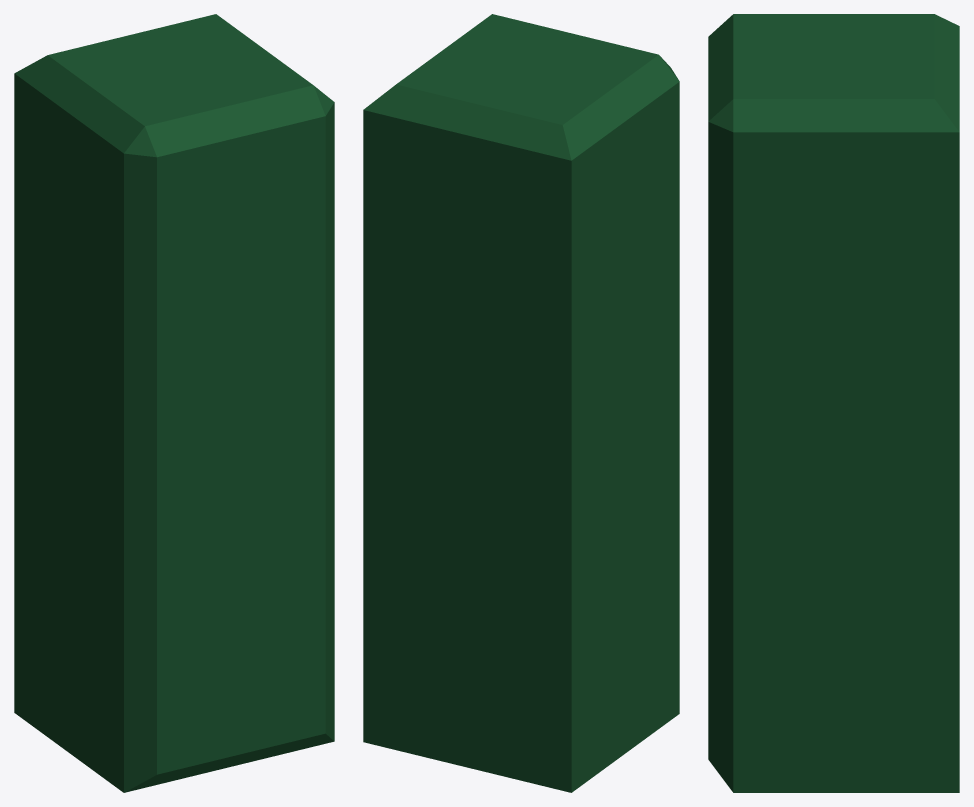
3 renders of one model, left to right at view 1: azimuth 30°, elevation 25°; view 2: azimuth 150°, elevation 25°; view 3: azimuth 270°, elevation 25°, orthographic. The views are drawn at different scales.
Visible parts, largest first — view 1: 平面.001; view 2: 平面.001; view 3: 平面.001.
Part boxes in pixels (x1,y1,x2,y2): 平面.001: [14, 14, 334, 792]; 平面.001: [363, 14, 679, 792]; 平面.001: [708, 14, 959, 792].
Size of the model in its own units: 200 by 600 by 200.
